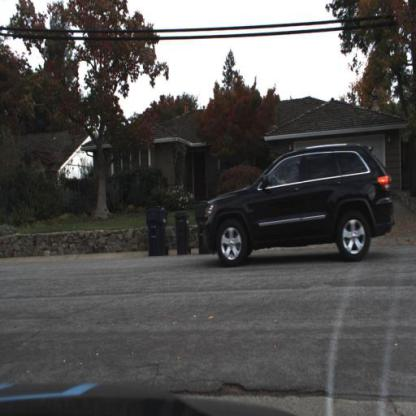car: (198, 140, 396, 267)
